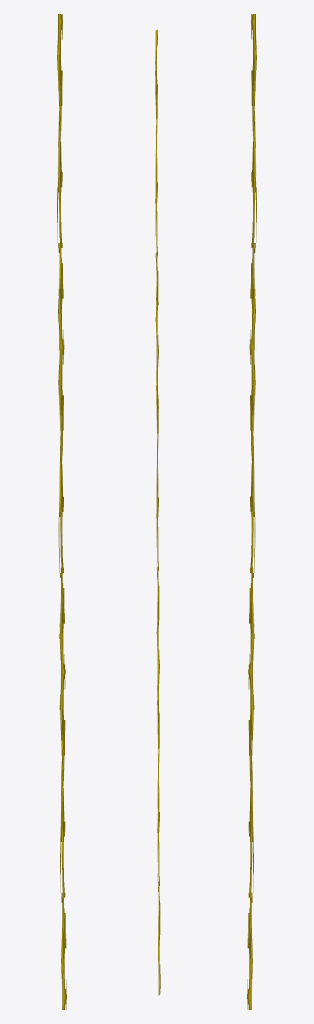
Rendered from boss_back_sword_lightning2.glb.
3 views of the same model, side by side, from view 1: azimuth 90°, elevation 25°; view 2: azimuth 150°, elevation 25°; view 3: azimuth 270°, elevation 25° (orthographic). The views are drawn at different scales.
Parts seen in each view (by area): view 1: sword_lightning; view 2: sword_lightning; view 3: sword_lightning.
Boxes of the visible parts, <box> form: sword_lightning: <box>57,14,66,1009</box>; sword_lightning: <box>155,29,160,995</box>; sword_lightning: <box>247,14,256,1009</box>.
Size of the model in its own units: 0.1218 by 100 by 8.35.
1 material, 1 textured.
